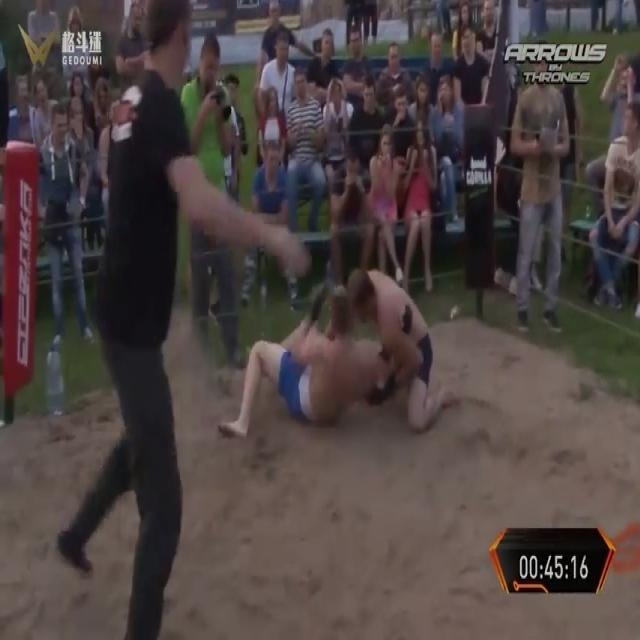fight: (218, 258, 495, 431)
non-fight: (46, 0, 313, 632), (504, 65, 572, 336), (262, 12, 332, 237), (393, 78, 437, 298), (24, 0, 62, 105)
